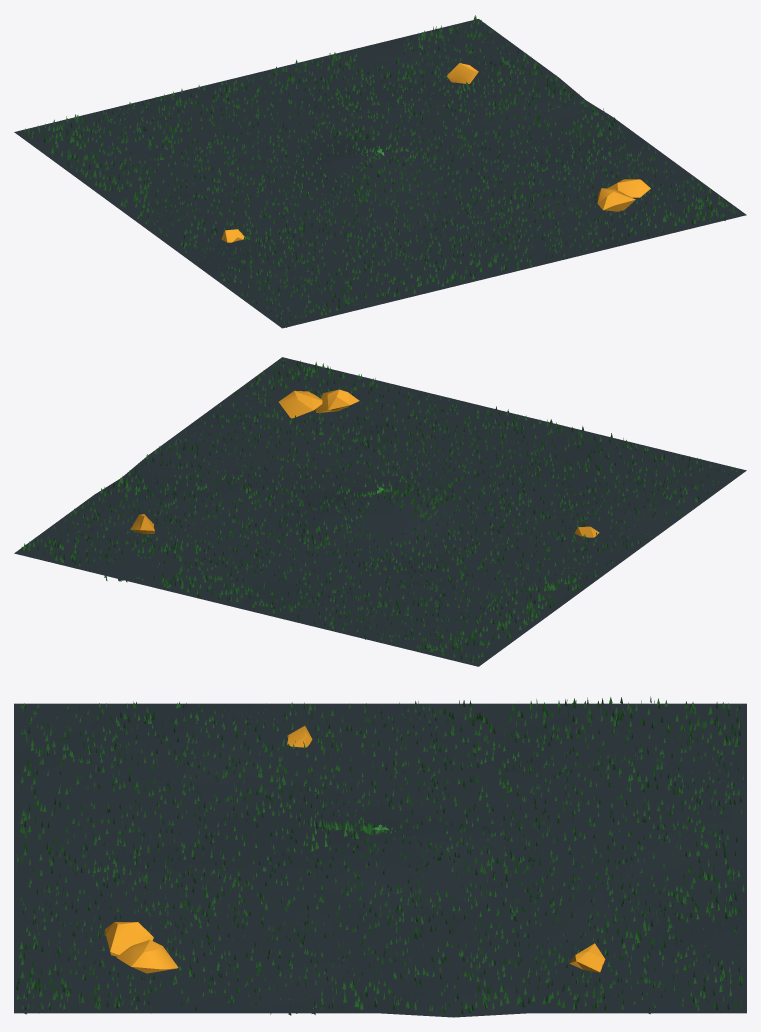
File: terrain_level8.glb
3 renders of one model, top to bottom at view 1: azimuth 30°, elevation 25°; view 2: azimuth 150°, elevation 25°; view 3: azimuth 270°, elevation 25°, orthographic. The views are drawn at different scales.
Visible parts, largest first — view 1: ground, grass, rock1; view 2: ground, grass, rock1; view 3: ground, grass, rock1, rock3.
Part boxes in pixels (x1=…): ground: x1=14, y1=19, x2=746, y2=328; grass: x1=24, y1=15, x2=737, y2=327; rock1: x1=597, y1=179, x2=650, y2=211; ground: x1=14, y1=357, x2=746, y2=666; grass: x1=21, y1=359, x2=739, y2=662; rock1: x1=279, y1=389, x2=359, y2=418; ground: x1=14, y1=703, x2=746, y2=1017; grass: x1=16, y1=696, x2=744, y2=1015; rock1: x1=105, y1=922, x2=178, y2=973; rock3: x1=569, y1=943, x2=605, y2=972.
Size of what is drawn, in the model's own units: 32 by 2.1 by 32.
1 material, 1 textured.
